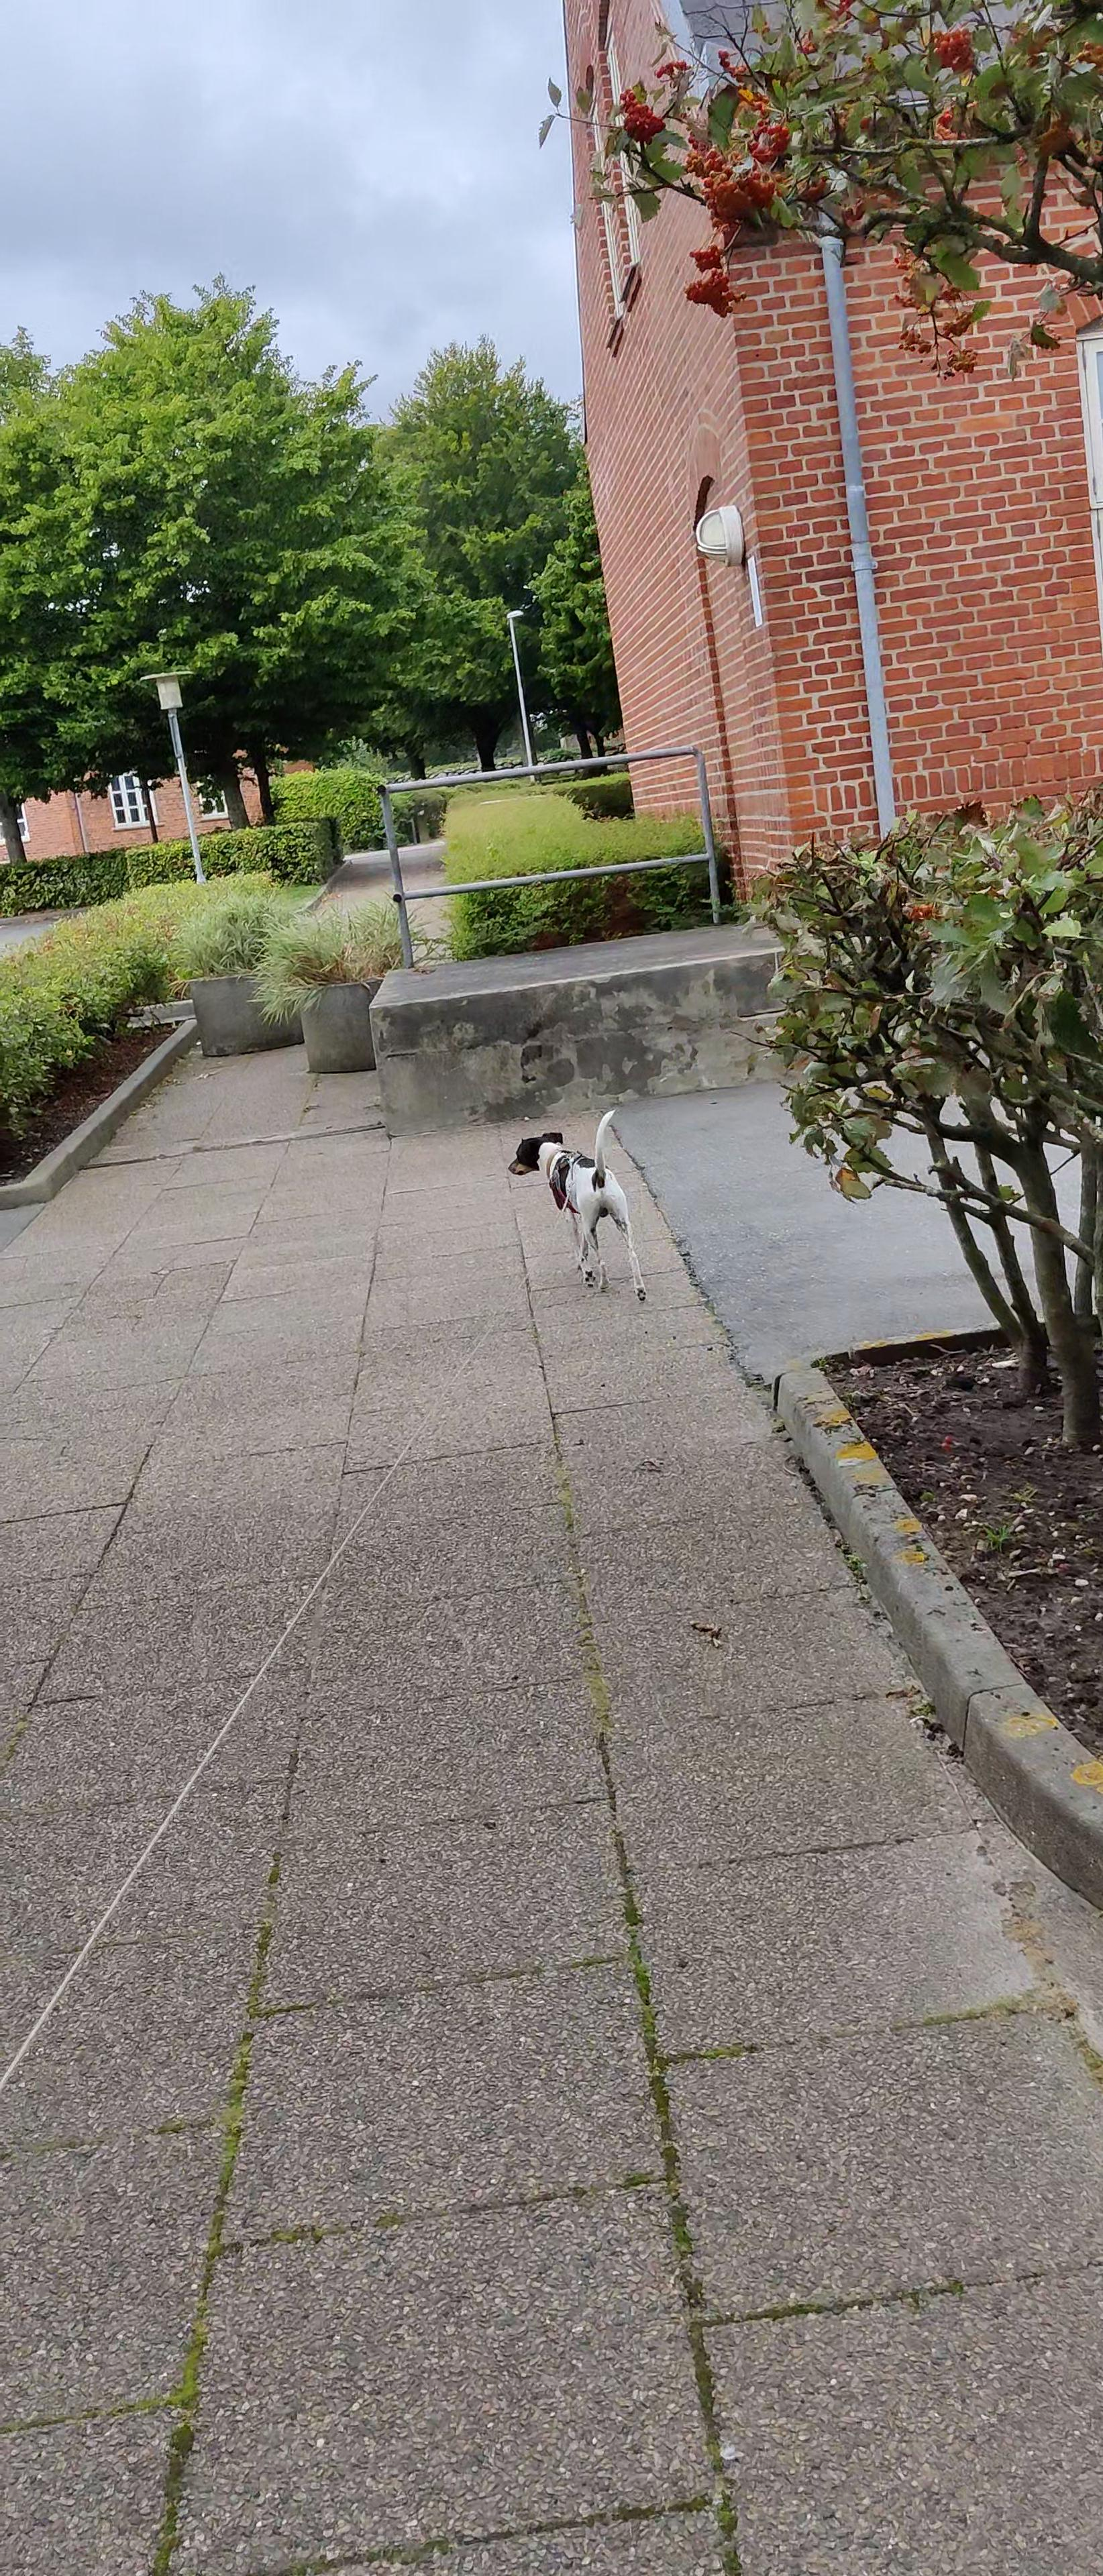Dog: (503, 1097, 656, 1304)
